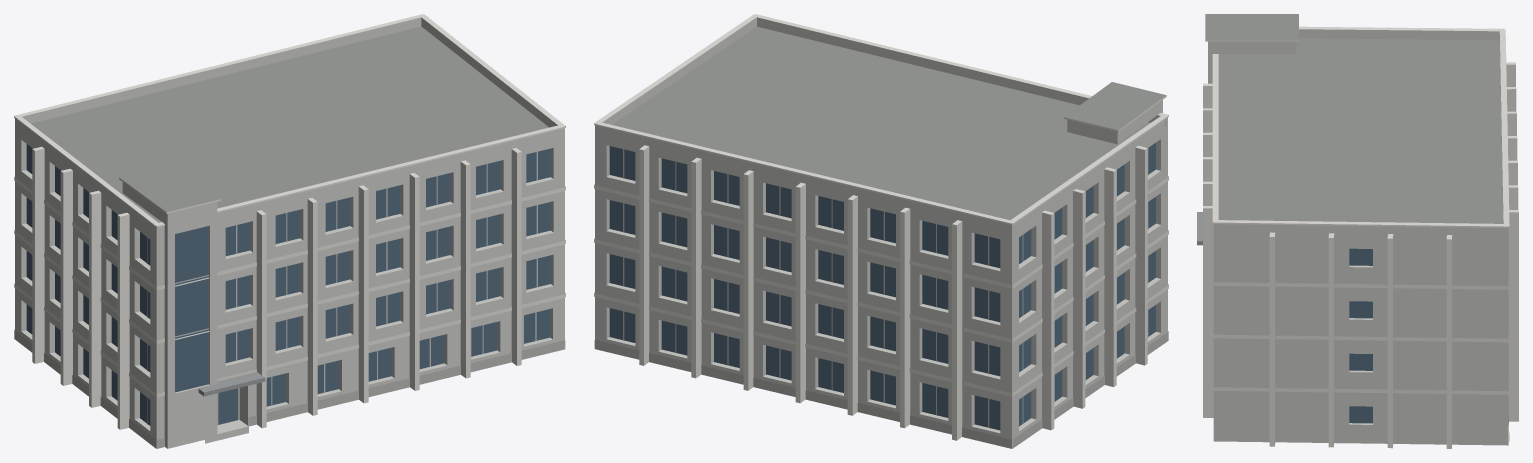
The picture shows the model from 3 angles, left to right: view 1: azimuth 30°, elevation 25°; view 2: azimuth 150°, elevation 25°; view 3: azimuth 270°, elevation 25°; orthographic projection. The views are drawn at different scales.
Parts seen in each view (by area): view 1: faculty__wall, faculty__roof, faculty__trim, faculty__glass, faculty__parapet, faculty__base, faculty__frame, faculty__canopy; view 2: faculty__wall, faculty__roof, faculty__trim, faculty__glass, faculty__parapet, faculty__base, faculty__frame; view 3: faculty__wall, faculty__roof, faculty__trim, faculty__parapet, faculty__glass.
Part boxes in pixels (bbox=[...]): faculty__wall: bbox=[15, 125, 564, 448]; faculty__roof: bbox=[31, 26, 548, 448]; faculty__trim: bbox=[14, 14, 565, 429]; faculty__glass: bbox=[26, 144, 550, 425]; faculty__parapet: bbox=[15, 17, 564, 234]; faculty__base: bbox=[14, 329, 565, 448]; faculty__frame: bbox=[147, 151, 537, 424]; faculty__canopy: bbox=[198, 372, 265, 396]; faculty__wall: bbox=[595, 100, 1167, 448]; faculty__roof: bbox=[612, 26, 1166, 448]; faculty__trim: bbox=[594, 14, 1168, 440]; faculty__glass: bbox=[609, 143, 1155, 430]; faculty__parapet: bbox=[595, 17, 1167, 232]; faculty__base: bbox=[594, 331, 1168, 448]; faculty__frame: bbox=[623, 148, 1148, 427]; faculty__wall: bbox=[1208, 41, 1508, 445]; faculty__roof: bbox=[1205, 14, 1508, 445]; faculty__trim: bbox=[1203, 26, 1518, 448]; faculty__parapet: bbox=[1213, 29, 1508, 234]; faculty__glass: bbox=[1349, 248, 1372, 423].
Bounding box in the file's own units: 29.67 × 16 × 19.43.
